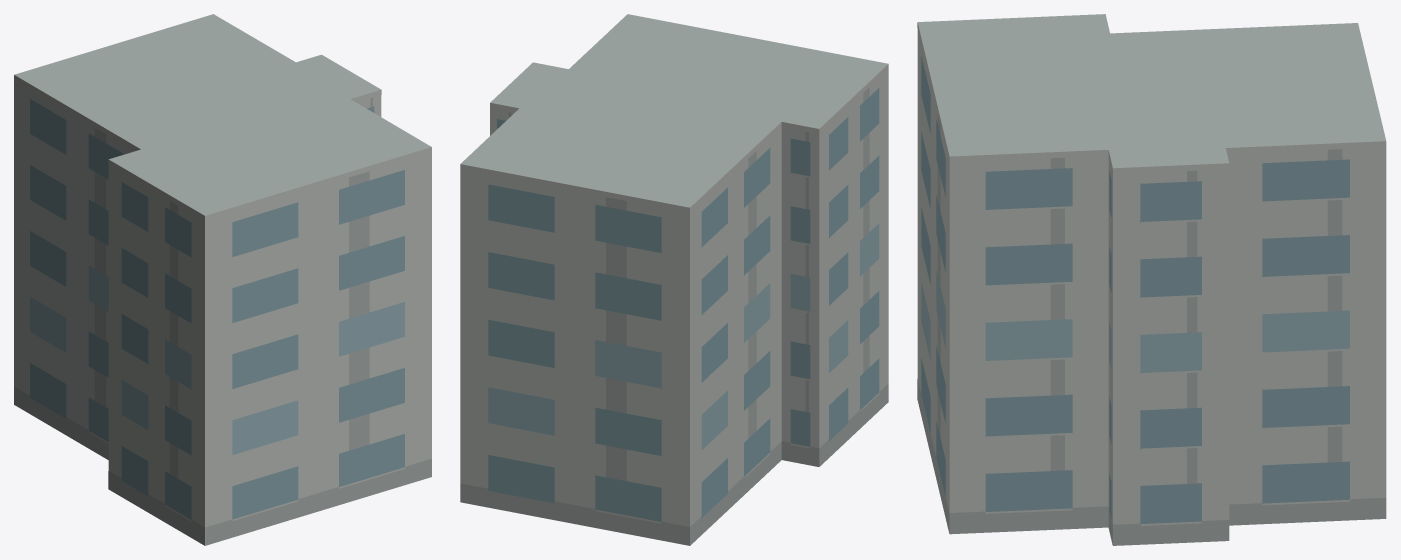
The model's file is residential-7478719c-f453-48b0-b224-14cfd44e6ea3.glb.
3 views of the same model, side by side, from view 1: azimuth 30°, elevation 25°; view 2: azimuth 150°, elevation 25°; view 3: azimuth 270°, elevation 25° (orthographic). The views are drawn at different scales.
Visible parts, largest first — view 1: residential-7478719c-f453-48b0-b224-14cfd44e6ea3.tmp; view 2: residential-7478719c-f453-48b0-b224-14cfd44e6ea3.tmp; view 3: residential-7478719c-f453-48b0-b224-14cfd44e6ea3.tmp.
Part boxes in pixels (x1,y1,x2,y2): residential-7478719c-f453-48b0-b224-14cfd44e6ea3.tmp: (14, 14, 431, 545); residential-7478719c-f453-48b0-b224-14cfd44e6ea3.tmp: (460, 14, 888, 545); residential-7478719c-f453-48b0-b224-14cfd44e6ea3.tmp: (917, 14, 1386, 545).
Size of the model in its own units: 13.37 by 15.25 by 17.17.
